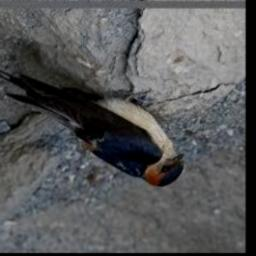Swallow: (0, 60, 184, 186)
